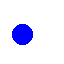circle: (12, 24, 32, 44)
